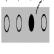correct: (28, 10, 36, 38)
no answer: (16, 13, 23, 35)
